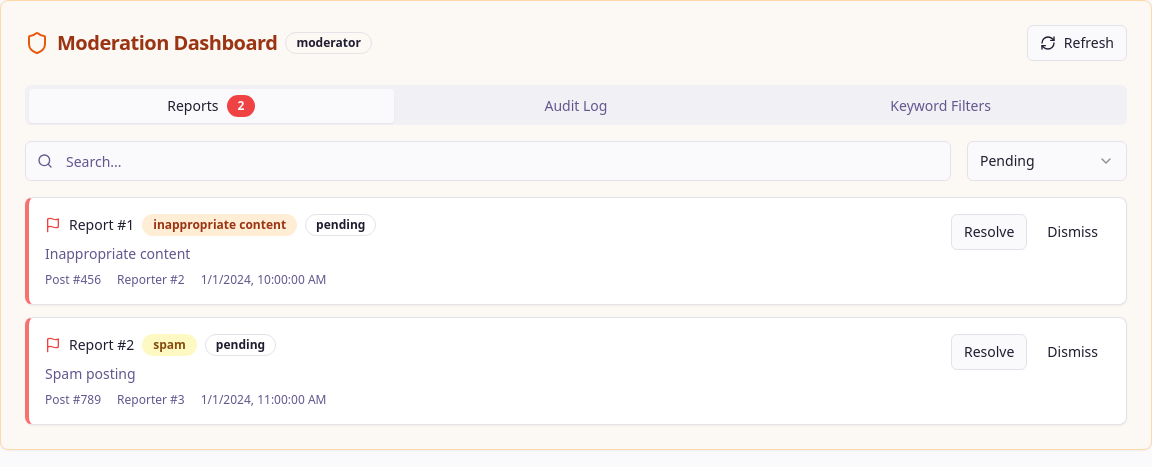
Test: ModerationDashboard › Reports Tab › should filter reports by search term
Expected: the text "Report #1" is shown, [69,215,134,235]
Expected: the text "Report #2" is shown, [69,335,134,355]
Type "spam" into the field with placeholder "Search..." at (488, 161), box [25,141,951,181]
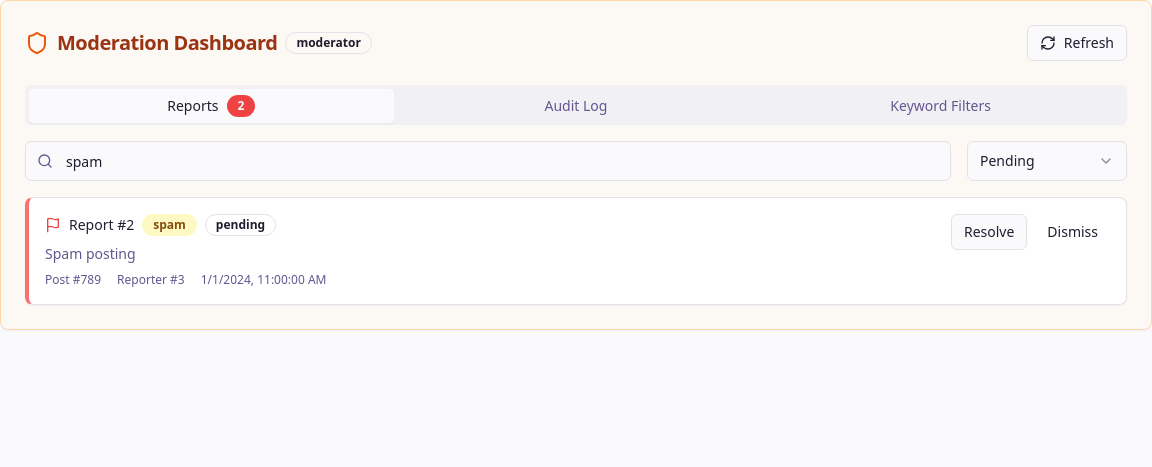
Expected: the text "Report #2" is shown, [69,215,134,235]
Expected: the text "Report #1" is gone
